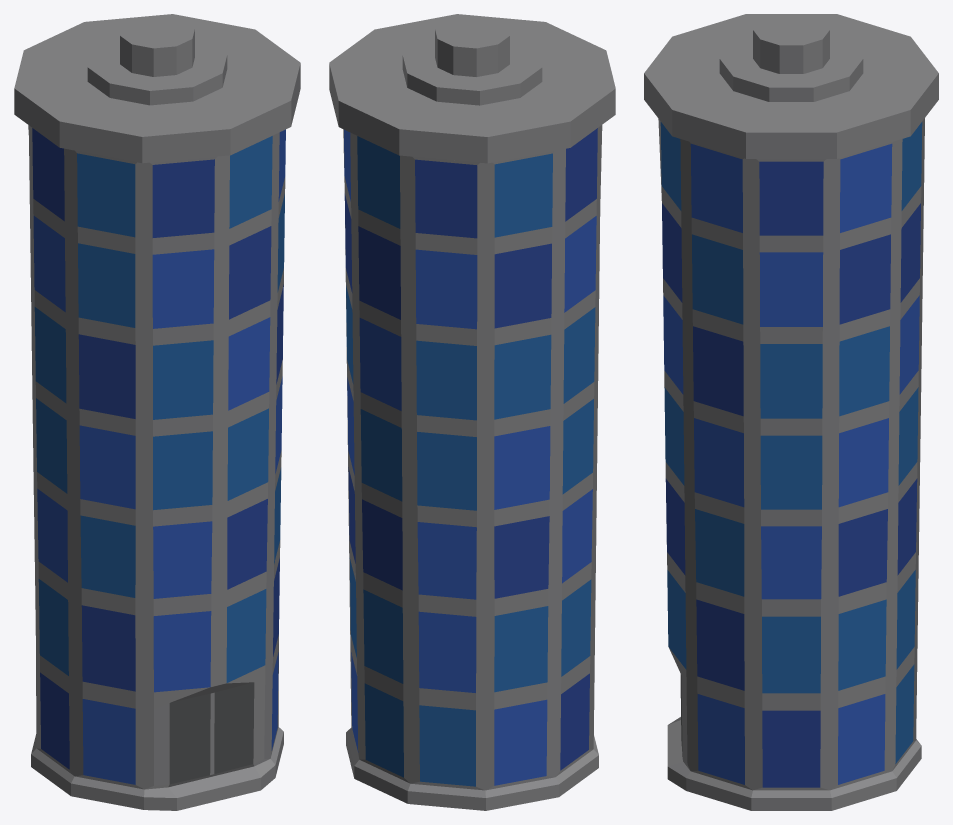
File: HighHouse 2.2.fbx
The picture shows the model from 3 angles, left to right: view 1: azimuth 30°, elevation 25°; view 2: azimuth 150°, elevation 25°; view 3: azimuth 270°, elevation 25°; orthographic projection.
Visible parts, largest first — view 1: HighHouse_2_02; view 2: HighHouse_2_02; view 3: HighHouse_2_02.
Part boxes in pixels (<box>): HighHouse_2_02: <box>14,14,300,810</box>; HighHouse_2_02: <box>329,14,615,810</box>; HighHouse_2_02: <box>644,14,938,810</box>.
Size of the model in its own units: 450 by 1290 by 473.
